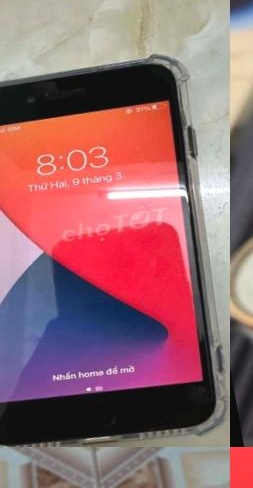scratch: (0, 43, 230, 447)
